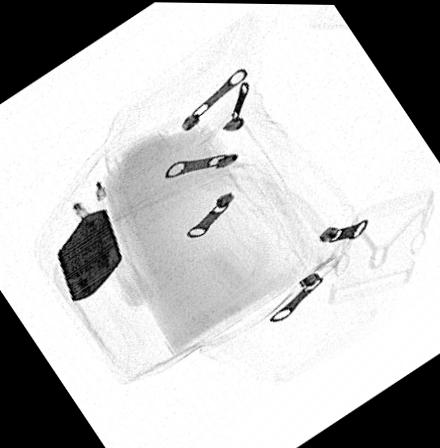Lighter: (54, 207, 122, 301)
